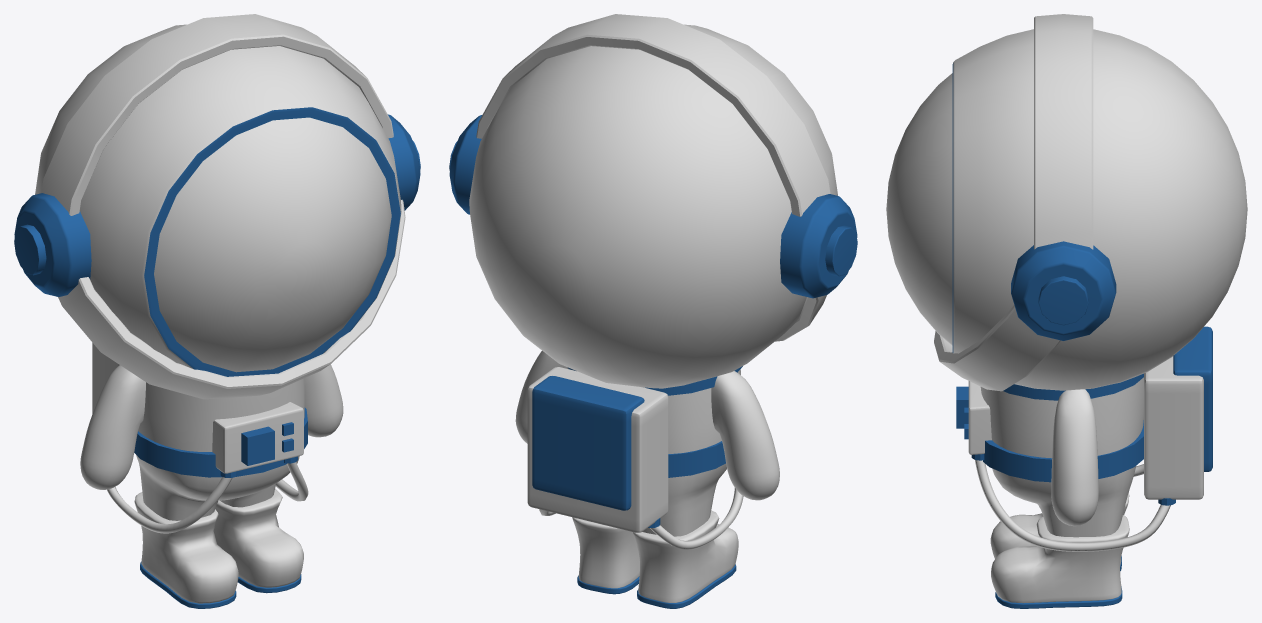
Rendered from People.fbx.
3 renders of one model, left to right at view 1: azimuth 30°, elevation 25°; view 2: azimuth 150°, elevation 25°; view 3: azimuth 270°, elevation 25°, orthographic.
Visible parts, largest first — view 1: pCylinder9; view 2: pCylinder9; view 3: pCylinder9.
Part boxes in pixels (x1=…): pCylinder9: x1=14, y1=14, x2=420, y2=608; pCylinder9: x1=449, y1=14, x2=857, y2=608; pCylinder9: x1=886, y1=14, x2=1247, y2=608.
Size of the model in its own units: 8.4 by 11.51 by 6.86.
